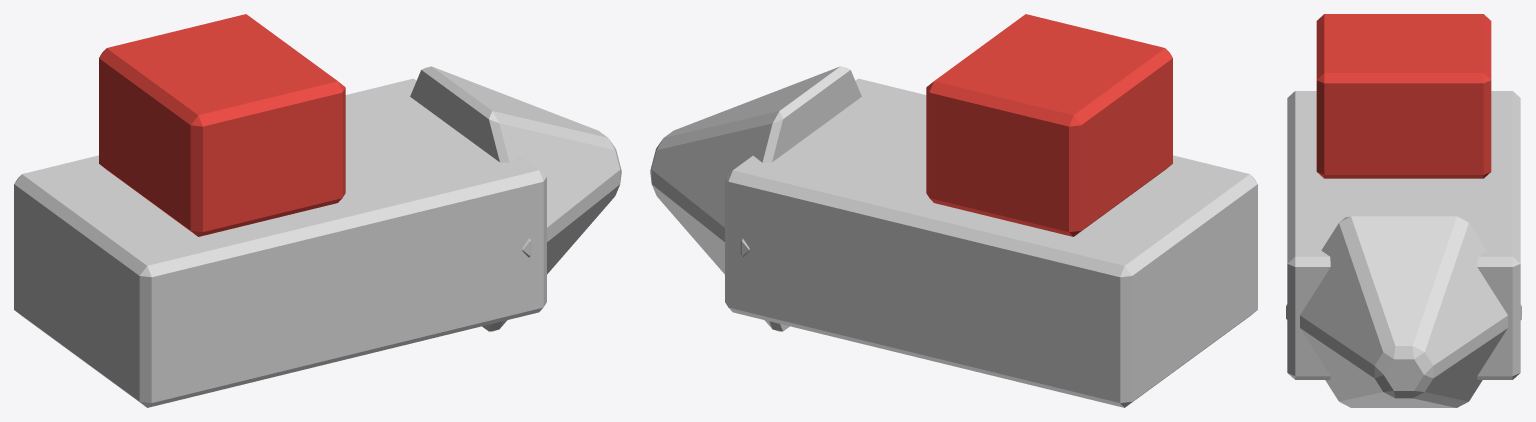
File: toy_boat.glb
The picture shows the model from 3 angles, left to right: view 1: azimuth 30°, elevation 25°; view 2: azimuth 150°, elevation 25°; view 3: azimuth 270°, elevation 25°; orthographic projection. The views are drawn at different scales.
Parts seen in each view (by area): view 1: toy_boat; view 2: toy_boat; view 3: toy_boat.
Boxes of the visible parts, left/top/right/bottom form: toy_boat: left=14, top=14, right=621, bottom=407; toy_boat: left=650, top=14, right=1257, bottom=407; toy_boat: left=1286, top=14, right=1521, bottom=407.
Size of the model in its own units: 0.55 by 0.2988 by 0.2429.
